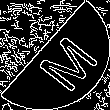M_NW: (18, 21, 92, 89)
